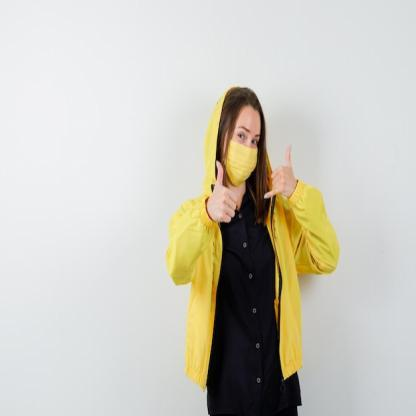thumb_up: (208, 158, 238, 227)
